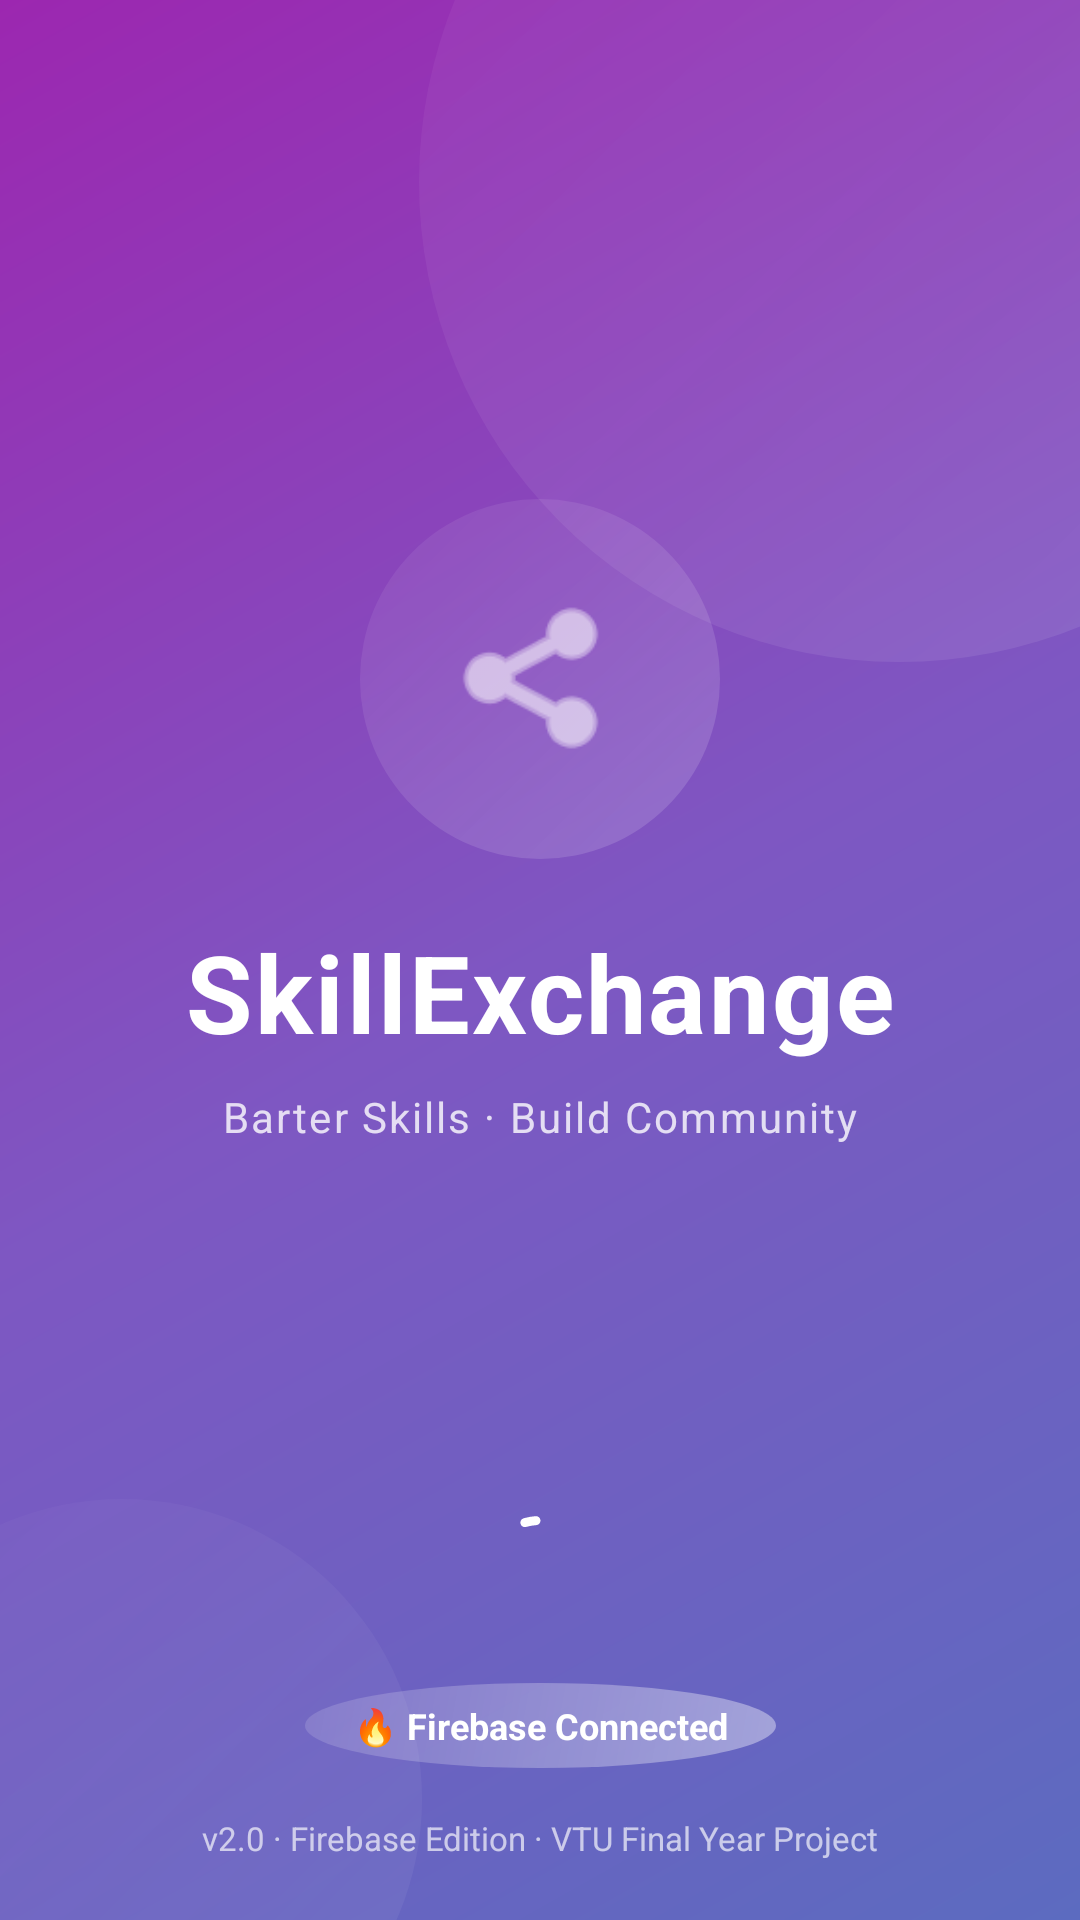

Icons on this 1080*1920 Android screen, each with its box as region(x1, y1, x2, y2):
share: region(463, 608, 598, 749)
